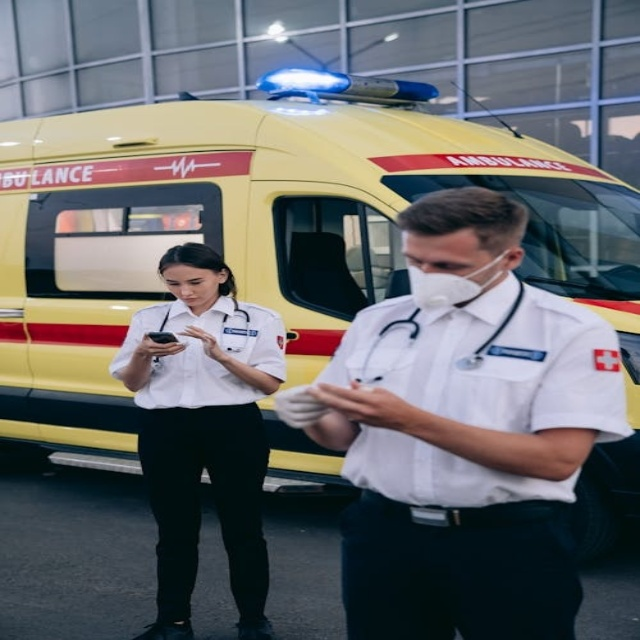Guantes: (273, 384, 331, 429)
Mascara: (410, 252, 504, 309)
Sin_gafas: (402, 243, 481, 273), (163, 274, 214, 287)
Sin_guantes: (308, 380, 407, 432), (182, 323, 223, 358), (141, 331, 185, 357)
Sin_mascara: (177, 294, 209, 307)
